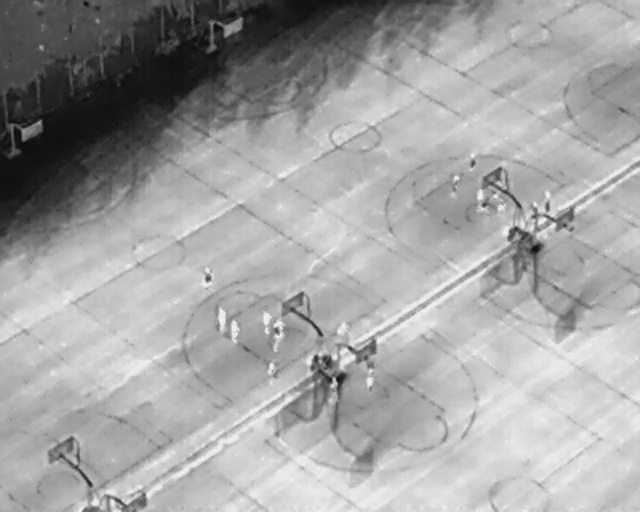Person: (274, 318, 286, 353), (204, 262, 215, 289), (367, 358, 376, 390), (493, 193, 506, 214), (217, 304, 226, 333), (262, 308, 271, 337), (330, 377, 339, 405), (451, 174, 461, 197), (230, 318, 239, 343), (268, 361, 276, 386), (477, 188, 484, 210), (470, 150, 477, 170)
